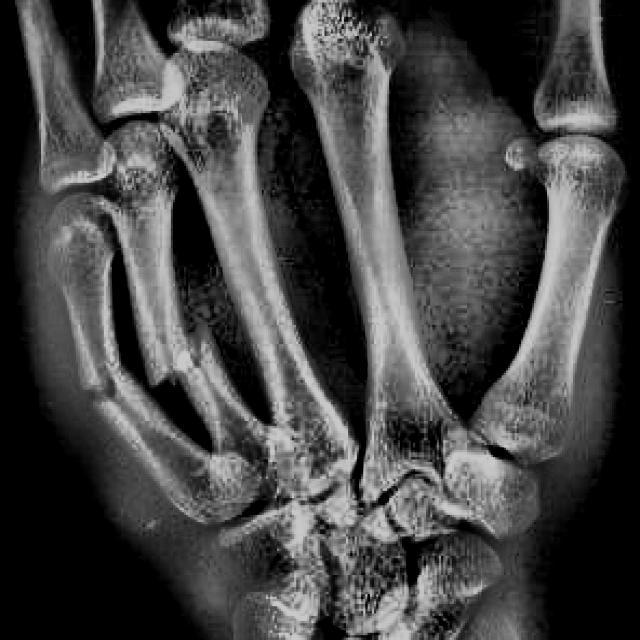fracture: (76, 351, 130, 433), (160, 324, 206, 394)
